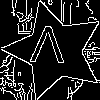V: (29, 25, 66, 72)
